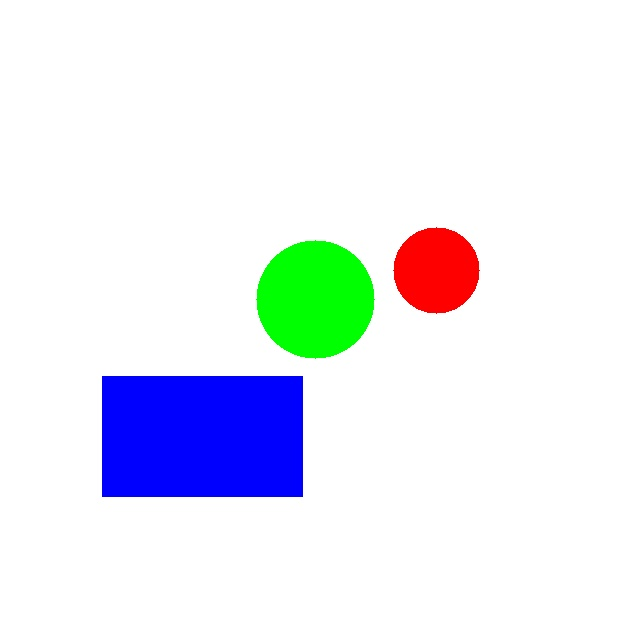cartao: (102, 376, 302, 496)
rosca_externa: (256, 240, 374, 358)
rosca_interna: (393, 227, 479, 313)
